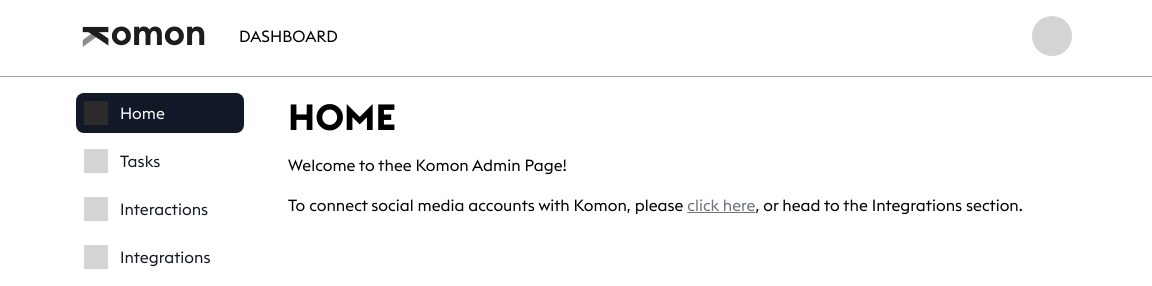
Test case: Basic navigation to "Tasks" › Should navigate to the tasks page
Click the link "Tasks". click: (122, 161)
box: [84,149,160,173]
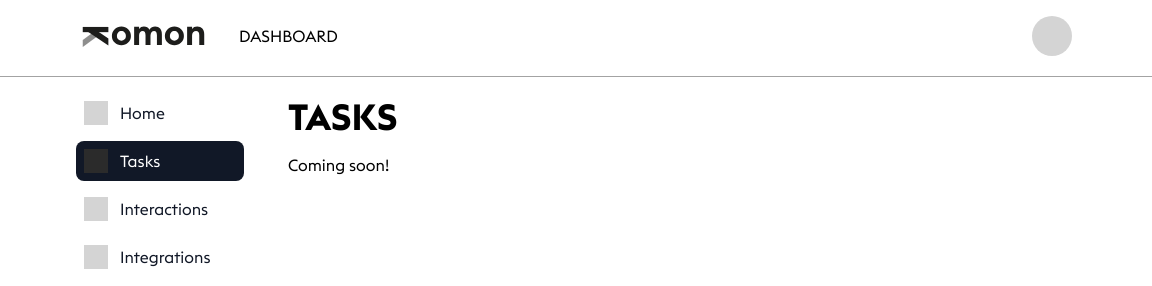
Now the heading "Tasks" is shown, box [288,97,398,137]
